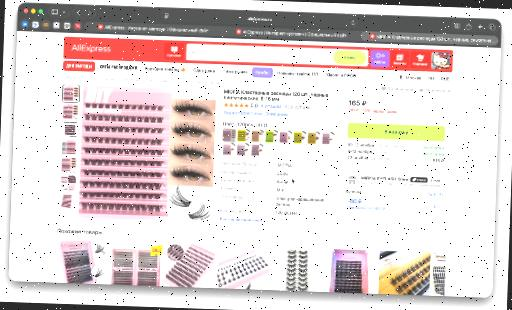aliexpress: (8, 30, 500, 298)
